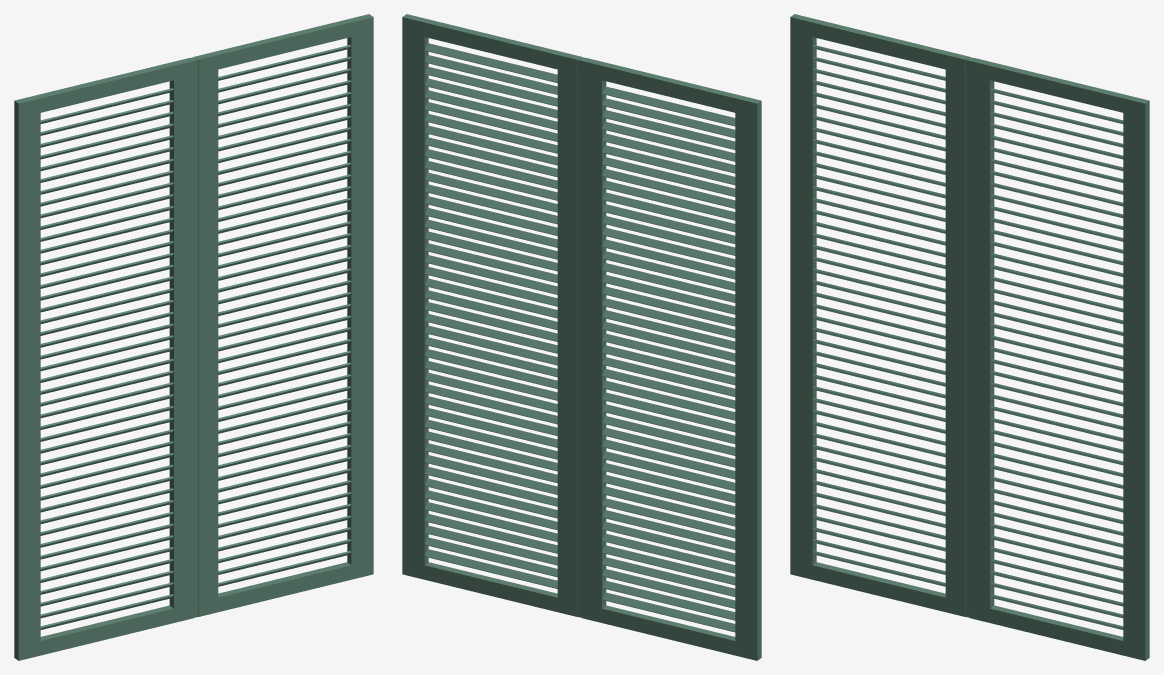
File: PLANTATION__SHUTTER.glb
3 renders of one model, left to right at view 1: azimuth 30°, elevation 25°; view 2: azimuth 150°, elevation 25°; view 3: azimuth 330°, elevation 25°, orthographic.
Parts seen in each view (by area): view 1: PLANTATION__SHUTTER; view 2: PLANTATION__SHUTTER; view 3: PLANTATION__SHUTTER.
Boxes of the visible parts, <box> form: PLANTATION__SHUTTER: <box>14,14,373,660</box>; PLANTATION__SHUTTER: <box>402,14,761,660</box>; PLANTATION__SHUTTER: <box>790,14,1149,660</box>.
Size of the model in its own units: 0.48 by 0.72 by 0.01.
